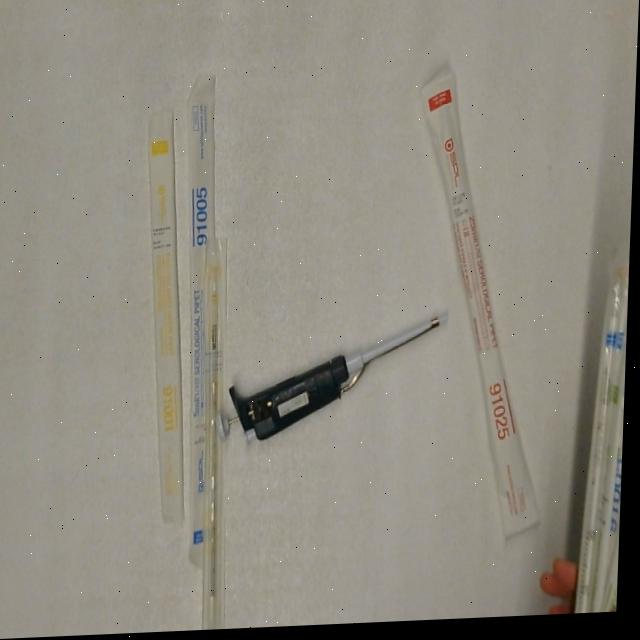Serelogical Pipet 1 mL - Sealed: (131, 102, 203, 529), (195, 231, 244, 633)
Serelogical Pipet 25 mL - Sealed: (403, 54, 559, 550)
Serelogical Pipet 5 mL - Sealed: (175, 66, 242, 575), (577, 288, 630, 619)
Single Channel Pipettor: (214, 308, 457, 449)
